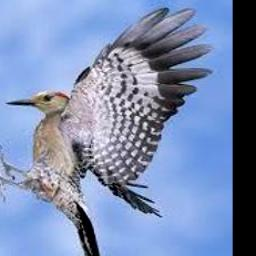Woodpecker: (0, 8, 213, 256)
